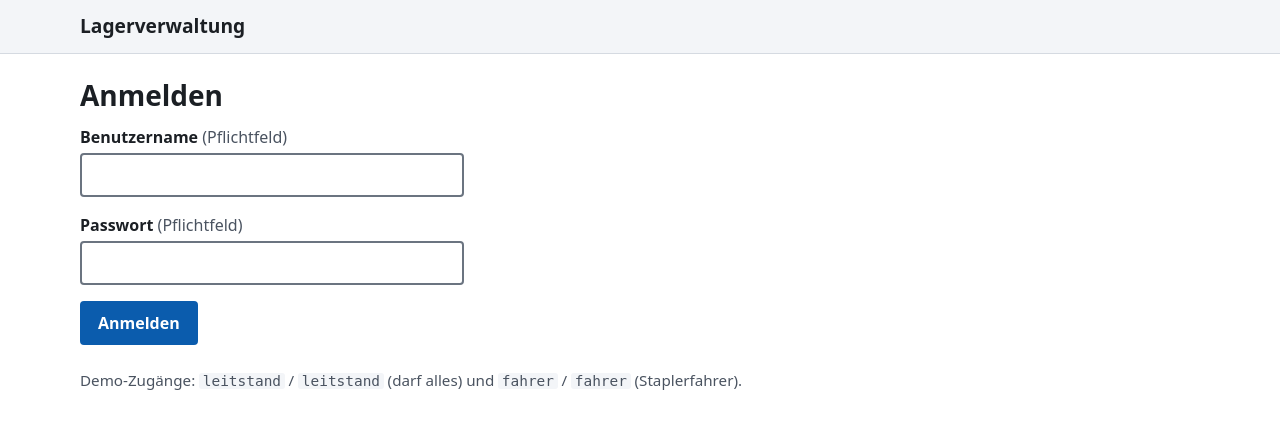
Fahrer meldet sich an und sieht nur seine Menüpunkte
This screenshot has width=1280, height=439.
Type "fahrer" into the field labelled "Benutzername (Pflichtfeld)". click: (272, 175)
box: [80,153,464,197]
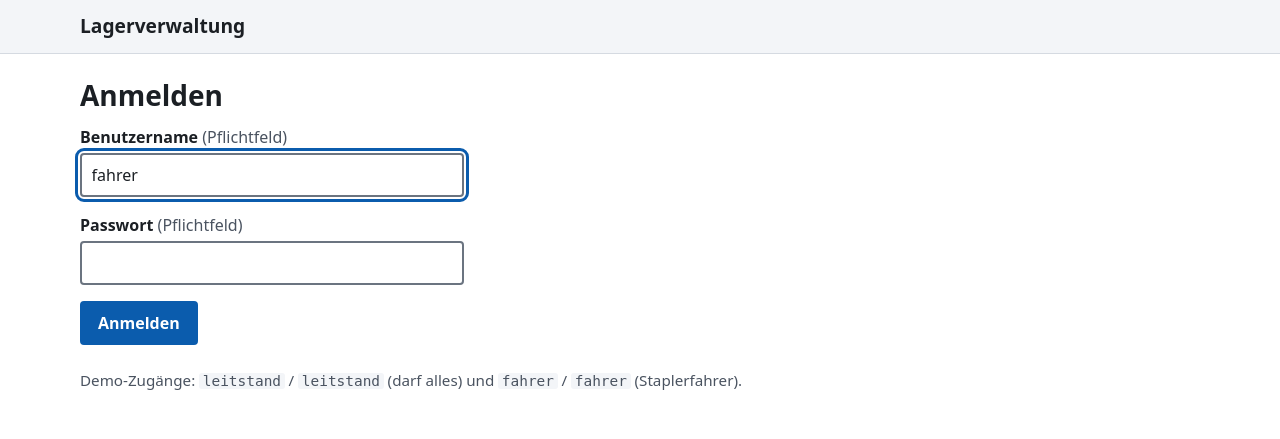
Type "fahrer" into the password field labelled "Passwort (Pflichtfeld)". click: (272, 263)
box: [80,241,464,285]
Then press Enter
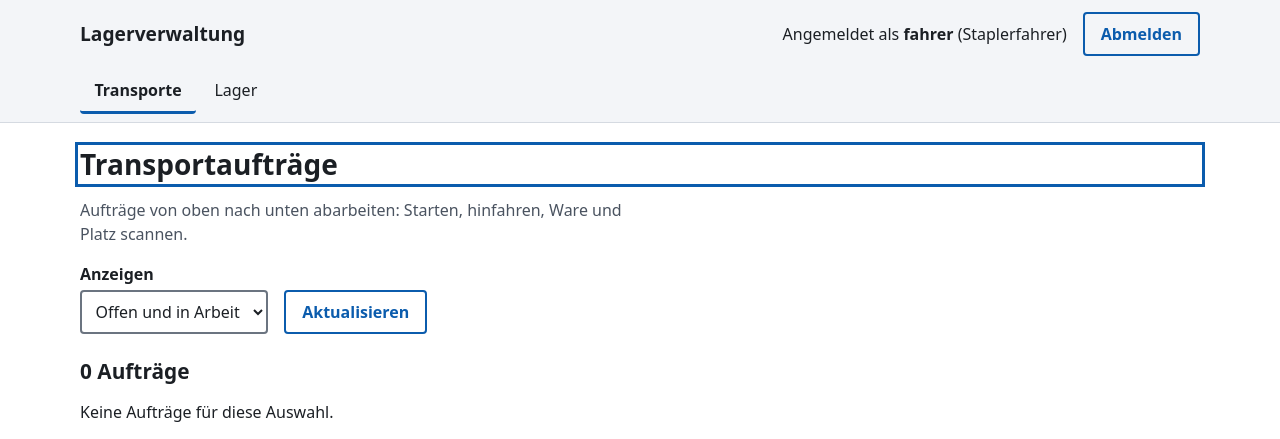
Result: the heading "Transportaufträge" is shown at [80,145,338,183]
Result: the links read "Transporte", "Lager", in this order at [80,68,196,114]; [214,79,257,101]
Result: the text "Angemeldet als fahrer (Staplerfahrer)" is shown at [783,22,1067,46]
